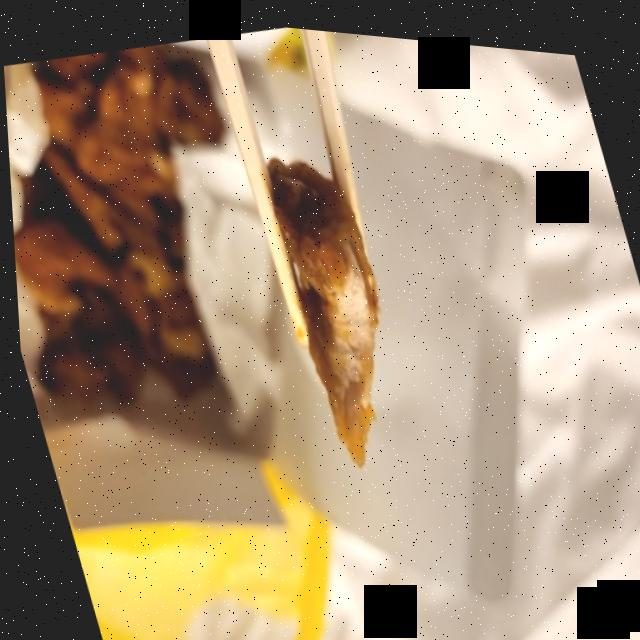Frango: (2, 36, 307, 452), (238, 114, 430, 484)
